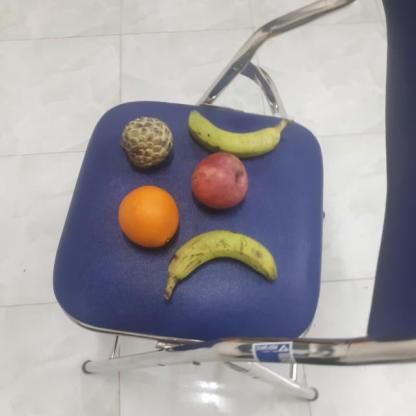annona: (116, 113, 176, 168)
apple: (188, 149, 251, 210)
banana: (160, 230, 280, 285), (181, 108, 284, 158)
orange: (114, 182, 182, 248)
